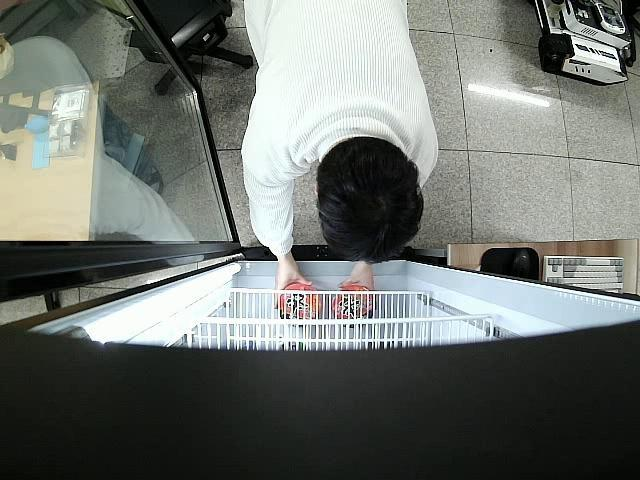01_ShinRamen_L: (331, 285, 374, 328), (278, 284, 321, 324)
